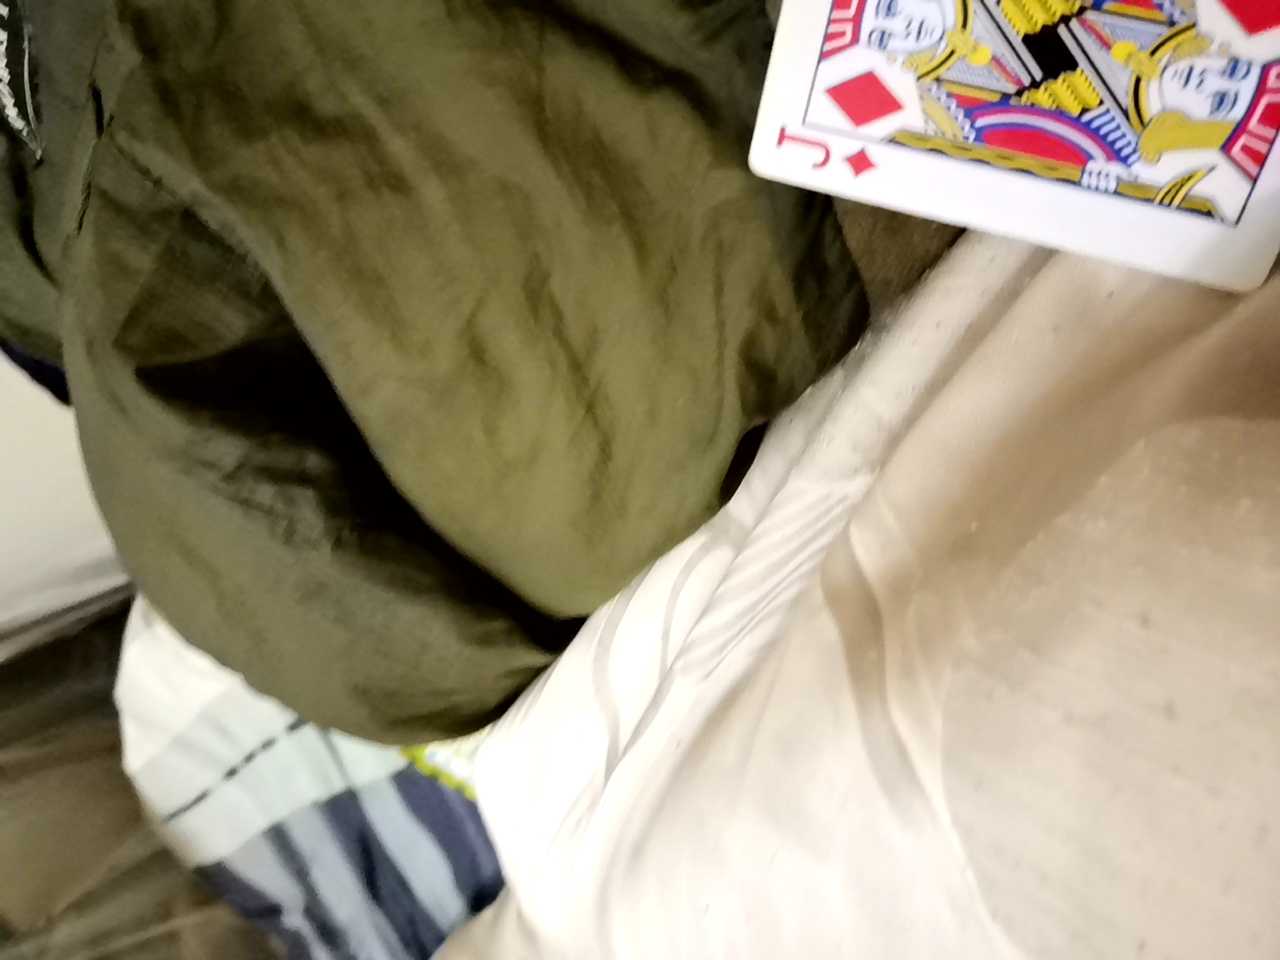fk j: (744, 3, 1273, 303)
